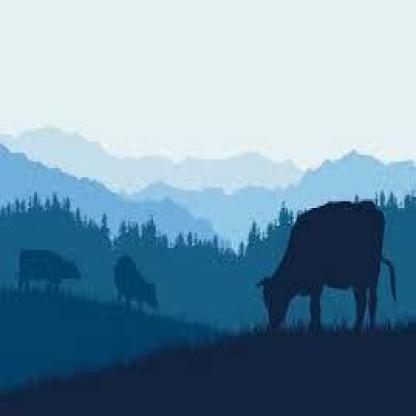cow: (261, 200, 385, 338), (17, 251, 85, 300), (113, 257, 159, 316)
